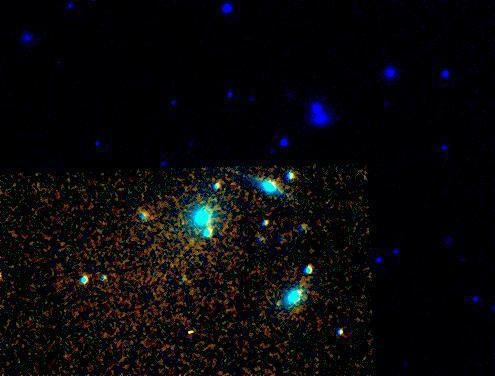star: (262, 289, 292, 319)
